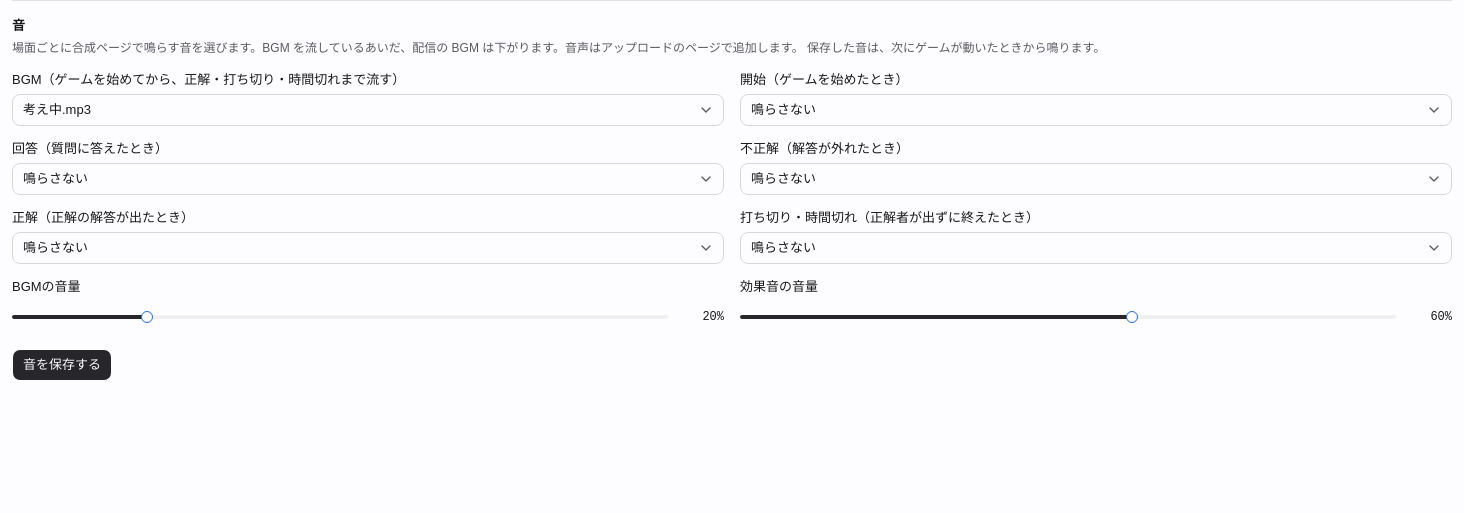
Test: ChatDeductionSoundCard › 保存を断られたら、問題点を枠の名前に読み替えて1行ずつ出す
Select "ピンポン.mp3" in the dropdown labelled "正解（正解の解答が出たとき）" at (368, 248), box [12,232,724,264]
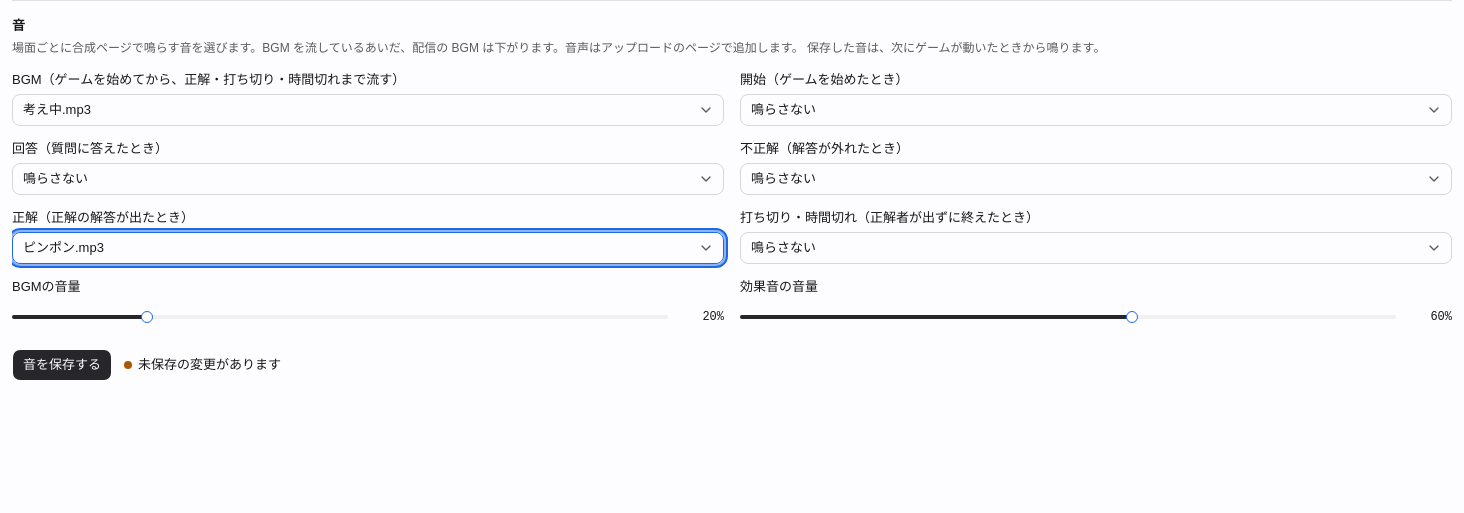
Click the button "音を保存する" at (62, 365), box [12,349,112,381]
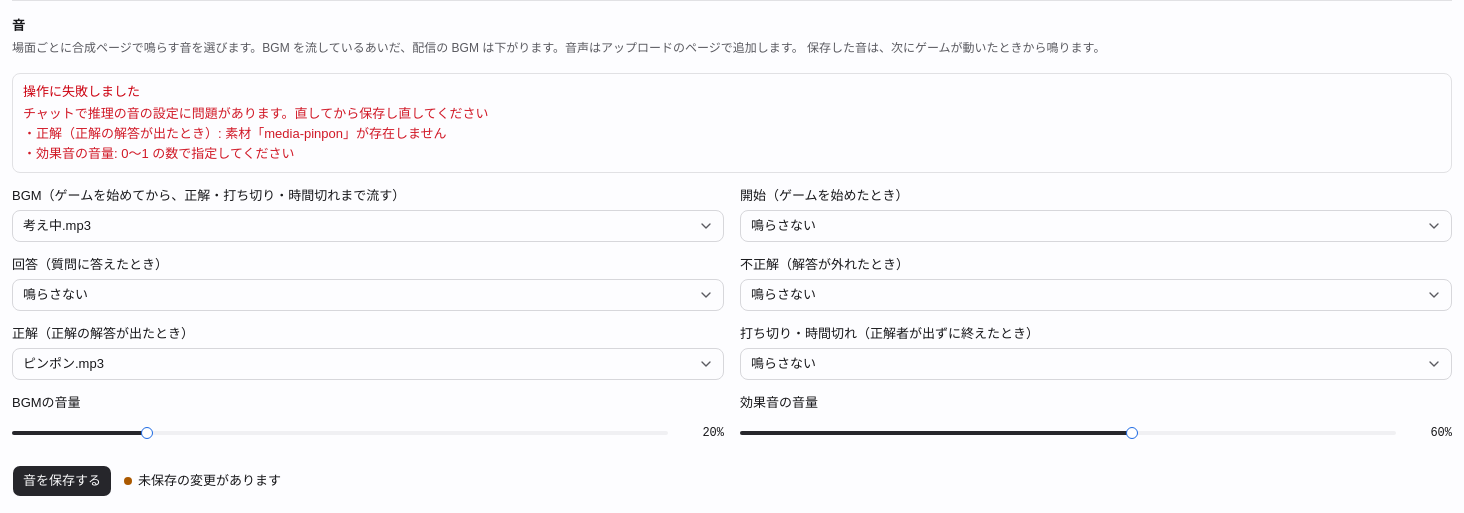
Expected: the text "・効果音の音量: 0〜1 の数で指定してください" is shown, [23,106,488,161]
